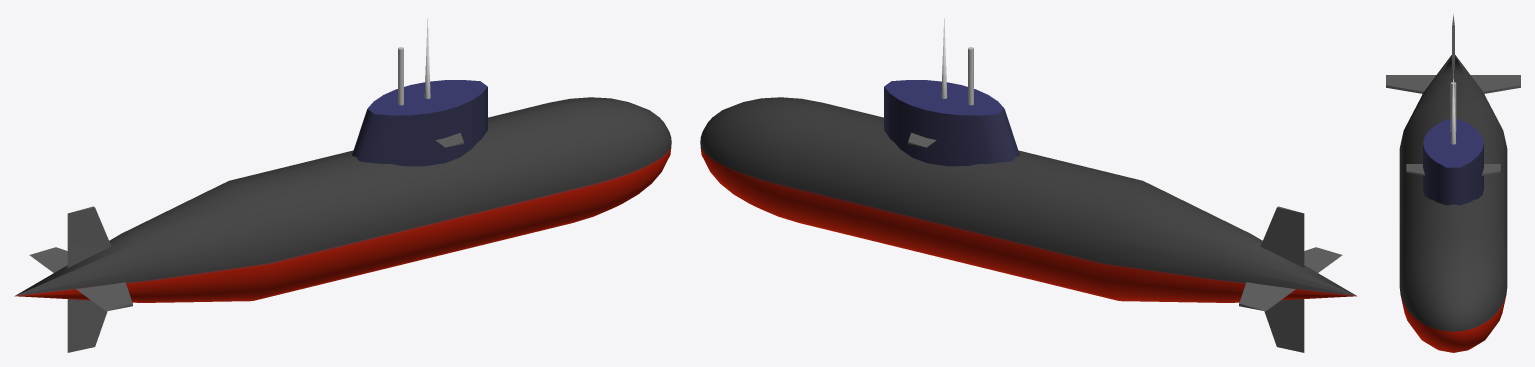
The model's file is submarine_body 1.obj.
The picture shows the model from 3 angles, left to right: view 1: azimuth 30°, elevation 25°; view 2: azimuth 150°, elevation 25°; view 3: azimuth 270°, elevation 25°; orthographic projection. The views are drawn at different scales.
Bounding box in the file's own units: 24.5 × 9 × 5.
Materials: 1 (1 with a texture image).
